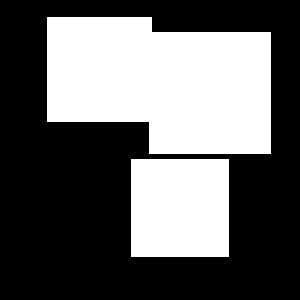circle: (149, 32, 271, 154), (47, 17, 152, 122), (131, 159, 229, 257), (152, 69, 232, 149)
rectangle: (90, 49, 142, 102)
